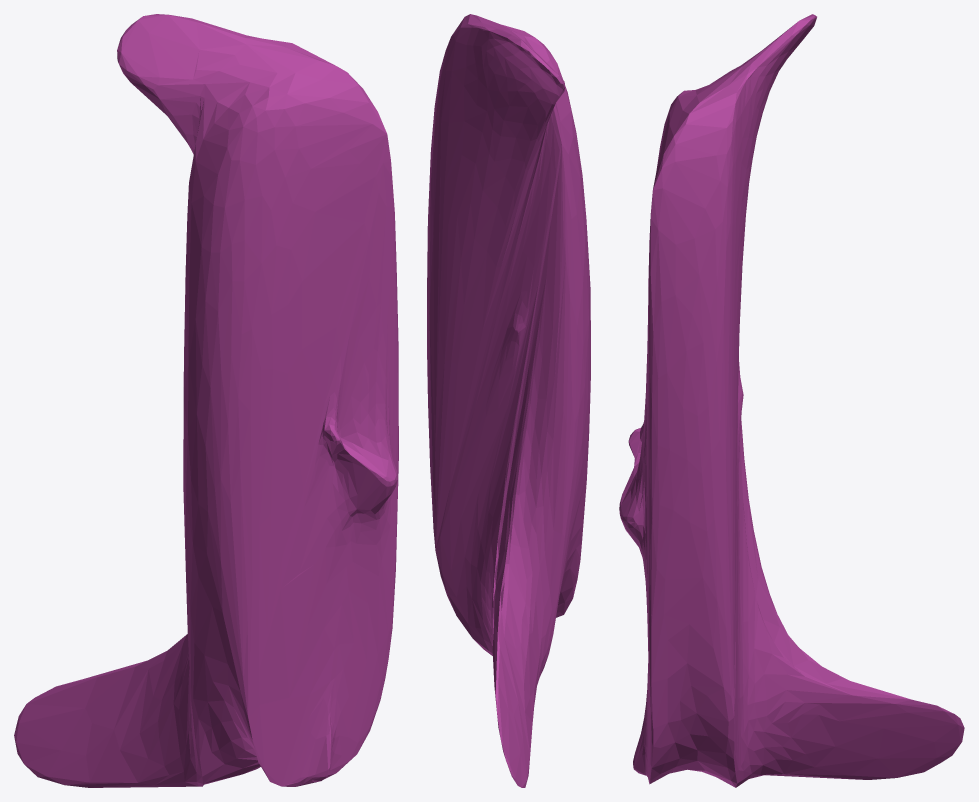
3 renders of one model, left to right at view 1: azimuth 30°, elevation 25°; view 2: azimuth 150°, elevation 25°; view 3: azimuth 270°, elevation 25°, orthographic. The views are drawn at different scales.
Visible parts, largest first — view 1: 419_Cube.1703; view 2: 419_Cube.1703; view 3: 419_Cube.1703.
Boxes of the visible parts, <box> form: 419_Cube.1703: <box>14,14,398,787</box>; 419_Cube.1703: <box>427,14,590,787</box>; 419_Cube.1703: <box>619,14,964,787</box>.
Size of the model in its own units: 4.01 by 13.1 by 5.23.
